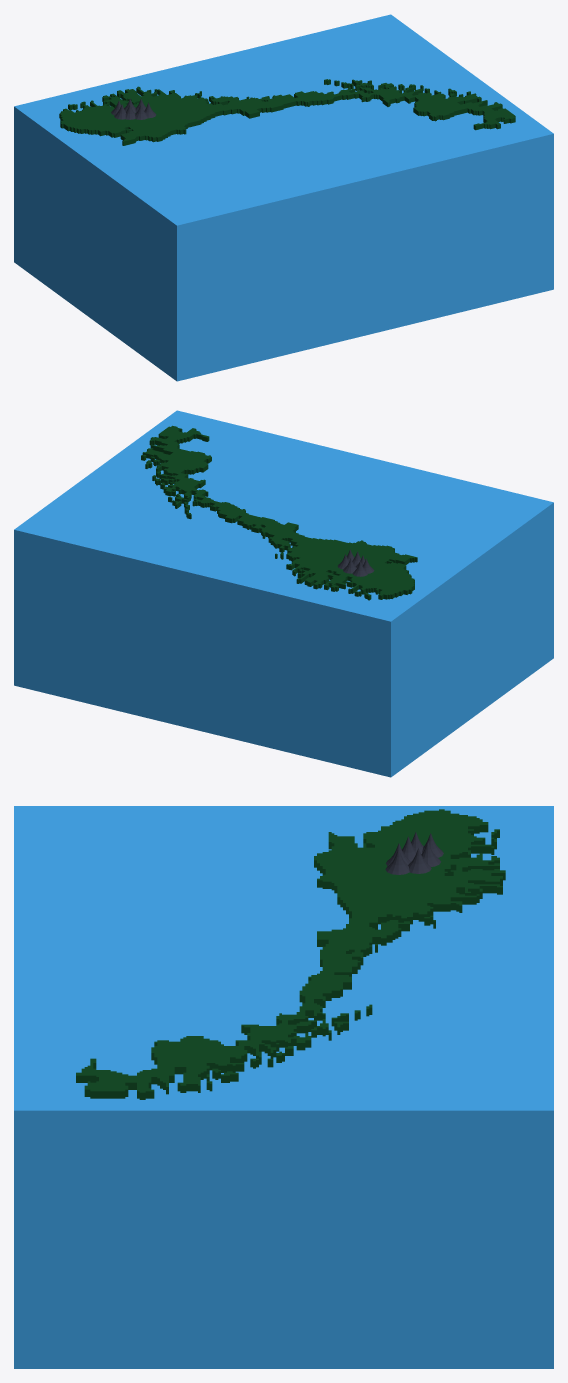
The model's file is Norway.FBX.
3 views of the same model, one above another, from view 1: azimuth 30°, elevation 25°; view 2: azimuth 150°, elevation 25°; view 3: azimuth 270°, elevation 25° (orthographic). The views are drawn at different scales.
Parts seen in each view (by area): view 1: Box005, Plane001; view 2: Box005, Plane001; view 3: Box005, Plane001.
Boxes of the visible parts, x1=… form: Box005: x1=14, y1=14, x2=553, y2=381; Plane001: x1=59, y1=79, x2=515, y2=145; Box005: x1=14, y1=410, x2=553, y2=777; Plane001: x1=141, y1=425, x2=417, y2=600; Box005: x1=14, y1=806, x2=553, y2=1368; Plane001: x1=76, y1=809, x2=505, y2=1099.
Bounding box in the file's own units: 9.25 × 4.05 × 6.93.
